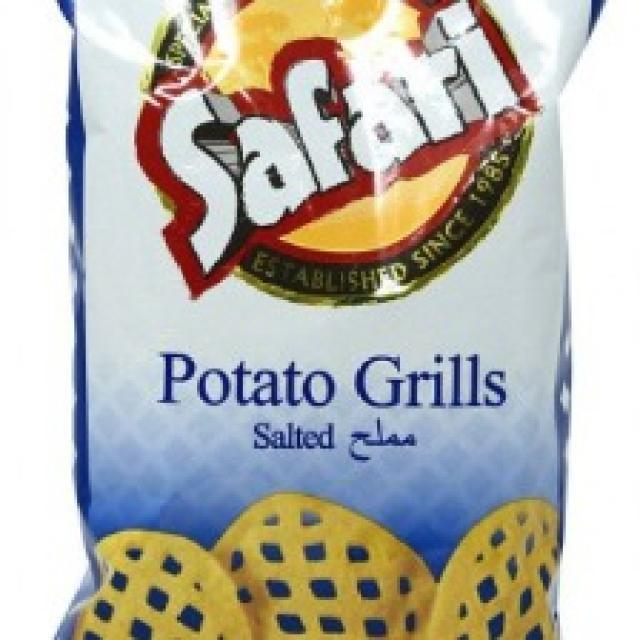plastic: (35, 1, 579, 640)
